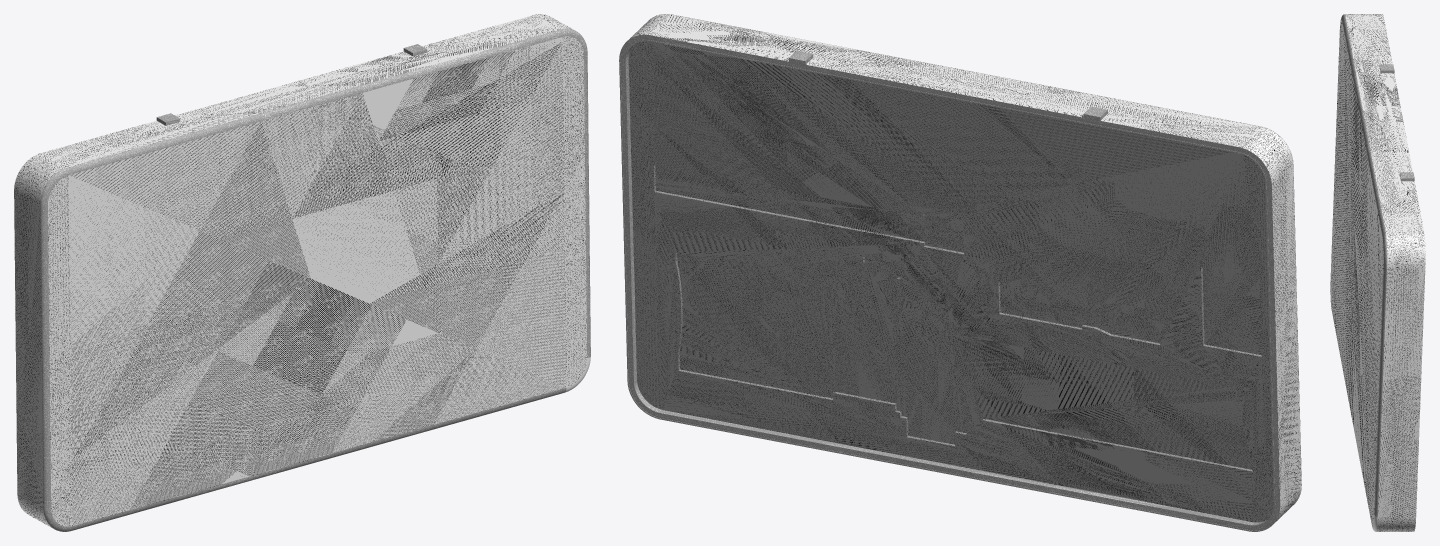
File: original-1.obj
3 views of the same model, side by side, from view 1: azimuth 30°, elevation 25°; view 2: azimuth 150°, elevation 25°; view 3: azimuth 270°, elevation 25° (orthographic). The views are drawn at different scales.
Parts seen in each view (by area): view 1: Group1/mesh1/mesh1-geometry#mesh1-geometry; view 2: Group1/mesh1/mesh1-geometry#mesh1-geometry; view 3: Group1/mesh1/mesh1-geometry#mesh1-geometry.
Part boxes in pixels (x1,y1,x2,y2): Group1/mesh1/mesh1-geometry#mesh1-geometry: [14, 14, 590, 531]; Group1/mesh1/mesh1-geometry#mesh1-geometry: [619, 14, 1301, 531]; Group1/mesh1/mesh1-geometry#mesh1-geometry: [1330, 14, 1425, 531].
Size of the model in its own units: 1.77 by 1.07 by 0.3017.
Materials: 4 (2 with a texture image).
